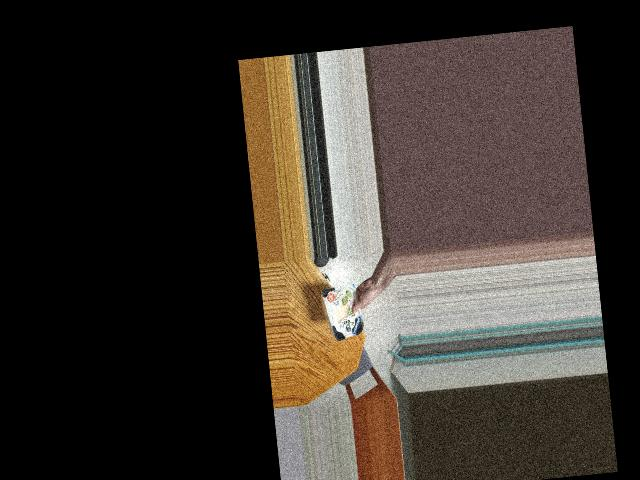cheese: (317, 279, 374, 341)
